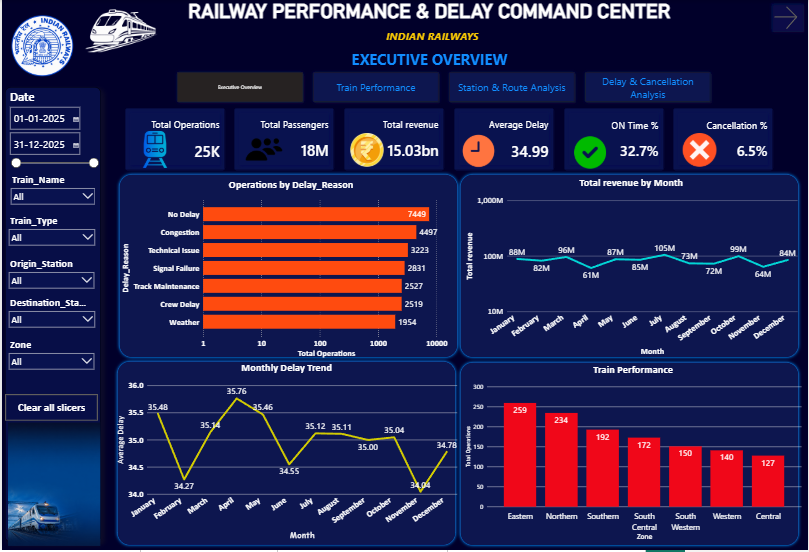

What the dashboard file says about the page in this screenshot:
{"tool":"powerbi","page":{"name":"Executive Overview","canvas":[2050,1400],"ordinal":0},"visuals":[{"type":"textbox","title":"RAILWAY PERFORMANCE & DELAY COMMAND CENTER","box":[249.2,0,1677.2,221.2],"z":0},{"type":"image","box":[0,0,286,236.6],"z":1000},{"type":"image","box":[208,0,189.8,156],"z":2000},{"type":"textbox","box":[8.4,221.2,243.6,1159.2],"z":3000},{"type":"slicer","fields":{"Values":["Train_operations.Travel_Date"]},"box":[7.8,221,247,267.8],"z":4000},{"type":"slicer","fields":{"Values":["Trains.Train_Name"]},"box":[13,434.2,234,106.6],"z":5000},{"type":"image","box":[14,1072.4,235.2,322],"z":6000},{"type":"slicer","fields":{"Values":["Routes.Destination_Station"]},"box":[7.8,748.8,239.2,106.6],"z":7000},{"type":"cardVisual","fields":{"Data":["ALL Measures.Cancellation %"]},"box":[1708,274.4,254.8,158.6],"z":8000},{"type":"shape","box":[291.2,434,878,483],"z":9000},{"type":"slicer","fields":{"Values":["Routes.Origin_Station"]},"box":[7.8,650,236.6,96.2],"z":10000},{"type":"slicer","fields":{"Values":["Trains.Train_Type"]},"box":[7.8,540.8,239.2,109.2],"z":11000},{"type":"slicer","fields":{"Values":["Stations.Zone"]},"box":[7.8,855.4,236.6,117],"z":12000},{"type":"image","box":[1716.4,338.8,119.6,85.8],"z":13000},{"type":"shape","box":[1159.2,912.8,878,483],"z":14000},{"type":"shape","box":[285.6,910,878,485],"z":15000},{"type":"shape","box":[1159.2,434,878,483],"z":16000},{"type":"lineChart","fields":{"Category":["Train_operations.Travel_Date.Variation.Date Hierarchy.Month"],"Y":["ALL Measures.Total revenue"]},"box":[1173.2,448,856.8,464.8],"z":17000},{"type":"clusteredColumnChart","title":"Train Performance","fields":{"Category":["Stations.Zone"],"Y":["ALL Measures.Total Operations"]},"box":[1173.2,924,866.7,456.3],"z":18000},{"type":"clusteredBarChart","title":"Operations by Delay_Reason","fields":{"Category":["Train_operations.Delay_Reason"],"Y":["ALL Measures.Total Operations"]},"box":[296.8,453.6,876.4,464.8],"z":19000},{"type":"lineChart","title":" Monthly Delay Trend","fields":{"Category":["Train_operations.Travel_Date.Variation.Date Hierarchy.Month"],"Y":["ALL Measures.Average Delay"]},"box":[285.6,918.4,878.8,462.8],"z":20000},{"type":"cardVisual","fields":{"Data":["ALL Measures.Total revenue"]},"box":[870.8,274.4,254.8,158.6],"z":21000},{"type":"cardVisual","fields":{"Data":["ALL Measures.Average Delay"]},"box":[1150.8,274.4,254.8,158.6],"z":22000},{"type":"cardVisual","fields":{"Data":["ALL Measures.Total Passengers"]},"box":[590.8,274.4,254.8,158.6],"z":23000},{"type":"cardVisual","fields":{"Data":["ALL Measures.ON Time %"]},"box":[1430.8,274.4,254.8,158.6],"z":24000},{"type":"cardVisual","fields":{"Data":["ALL Measures.Total Operations"]},"box":[313.6,274.4,254.8,158.6],"z":25000},{"type":"image","box":[1430.8,341.6,132.6,93.6],"z":26000},{"type":"image","box":[1145.2,341.6,135.2,85.8],"z":27000},{"type":"image","box":[870.8,338.8,117,85.8],"z":28000},{"type":"image","box":[607.6,333.2,117,93.6],"z":29000},{"type":"image","box":[333.2,333.2,111.8,93.6],"z":30000},{"type":"actionButton","box":[1950,0,100,90],"z":31000},{"type":"pageNavigator","box":[436.8,176.4,1374.8,92.4],"z":32000},{"type":"actionButton","box":[8.4,1002.4,236.6,68.4],"z":33000}]}

Visuals, with their boxes in screenshot pixels (x1, y1, x2, y2), scaled from the page's 2050x1400 canvas onto the 809x552 screenshot:
"RAILWAY PERFORMANCE & DELAY COMMAND CENTER" textbox: Rect(98, 0, 760, 87)
image: Rect(0, 0, 113, 93)
image: Rect(82, 0, 157, 62)
textbox: Rect(3, 87, 99, 544)
slicer - Train_operations.Travel_Date: Rect(3, 87, 101, 193)
slicer - Trains.Train_Name: Rect(5, 171, 97, 213)
image: Rect(6, 423, 98, 550)
slicer - Routes.Destination_Station: Rect(3, 295, 97, 337)
cardVisual - ALL Measures.Cancellation %: Rect(674, 108, 775, 171)
shape: Rect(115, 171, 461, 362)
slicer - Routes.Origin_Station: Rect(3, 256, 96, 294)
slicer - Trains.Train_Type: Rect(3, 213, 97, 256)
slicer - Stations.Zone: Rect(3, 337, 96, 383)
image: Rect(677, 134, 725, 167)
shape: Rect(457, 360, 804, 550)
shape: Rect(113, 359, 459, 550)
shape: Rect(457, 171, 804, 362)
lineChart - Train_operations.Travel_Date.Variation.Date Hierarchy.Month x ALL Measures.Total revenue: Rect(463, 177, 801, 360)
"Train Performance" clusteredColumnChart: Rect(463, 364, 805, 544)
"Operations by Delay_Reason" clusteredBarChart: Rect(117, 179, 463, 362)
" Monthly Delay Trend" lineChart: Rect(113, 362, 460, 545)
cardVisual - ALL Measures.Total revenue: Rect(344, 108, 444, 171)
cardVisual - ALL Measures.Average Delay: Rect(454, 108, 555, 171)
cardVisual - ALL Measures.Total Passengers: Rect(233, 108, 334, 171)
cardVisual - ALL Measures.ON Time %: Rect(565, 108, 665, 171)
cardVisual - ALL Measures.Total Operations: Rect(124, 108, 224, 171)
image: Rect(565, 135, 617, 172)
image: Rect(452, 135, 505, 169)
image: Rect(344, 134, 390, 167)
image: Rect(240, 131, 286, 168)
image: Rect(131, 131, 176, 168)
actionButton: Rect(770, 0, 808, 35)
pageNavigator: Rect(172, 70, 715, 106)
actionButton: Rect(3, 395, 97, 422)
